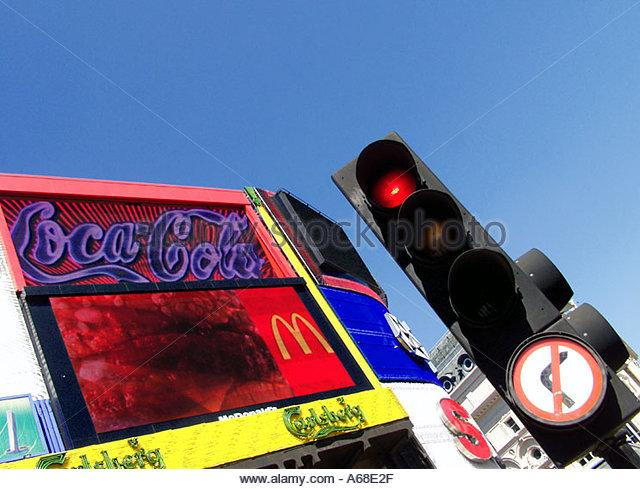no_right_turn: (512, 336, 603, 425)
